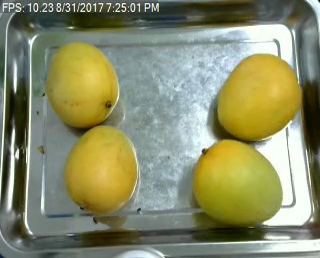Mango: (192, 139, 282, 226), (216, 56, 300, 140), (65, 123, 140, 213), (43, 42, 118, 127)
